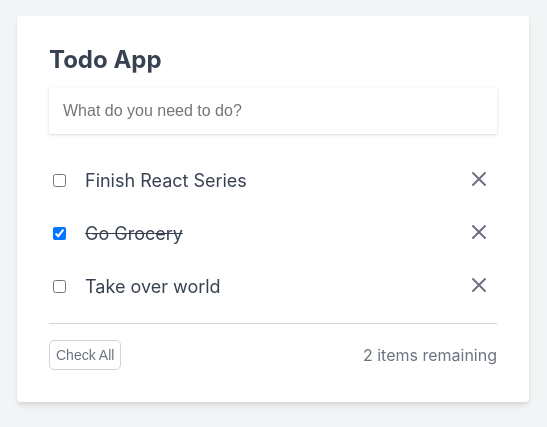
Scenario: can put a todo into edit mode and commit a change by pressing enter
Double-click the text "Finish React Series" at (166, 180), box [85,172,247,190]
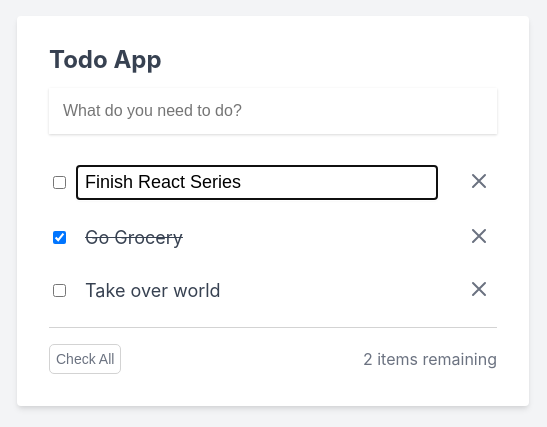
expect the field showing "Finish React Series" is shown: met
Type " today" into the field showing "Finish React Series" at (257, 182), box [77,166,437,199]
Then press Enter
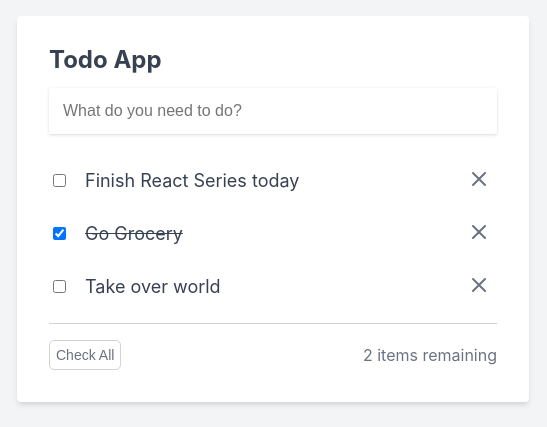
expect the text "Finish React Series today" is shown: met, box [85,172,299,190]
